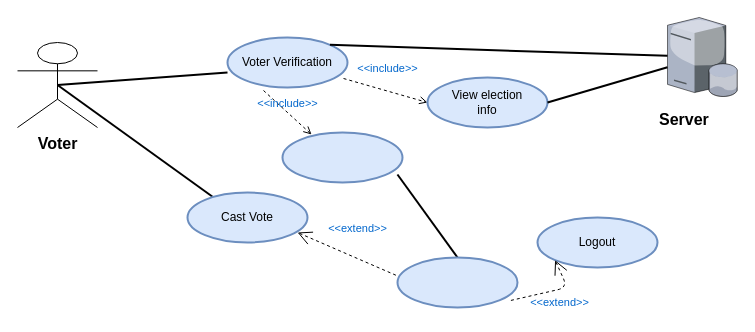
This 755x332 diagram has some shape labels left out. Each missing label, with the centre of its shape:
"Login" goes at point (457, 282).
"Registration" goes at point (342, 157).
